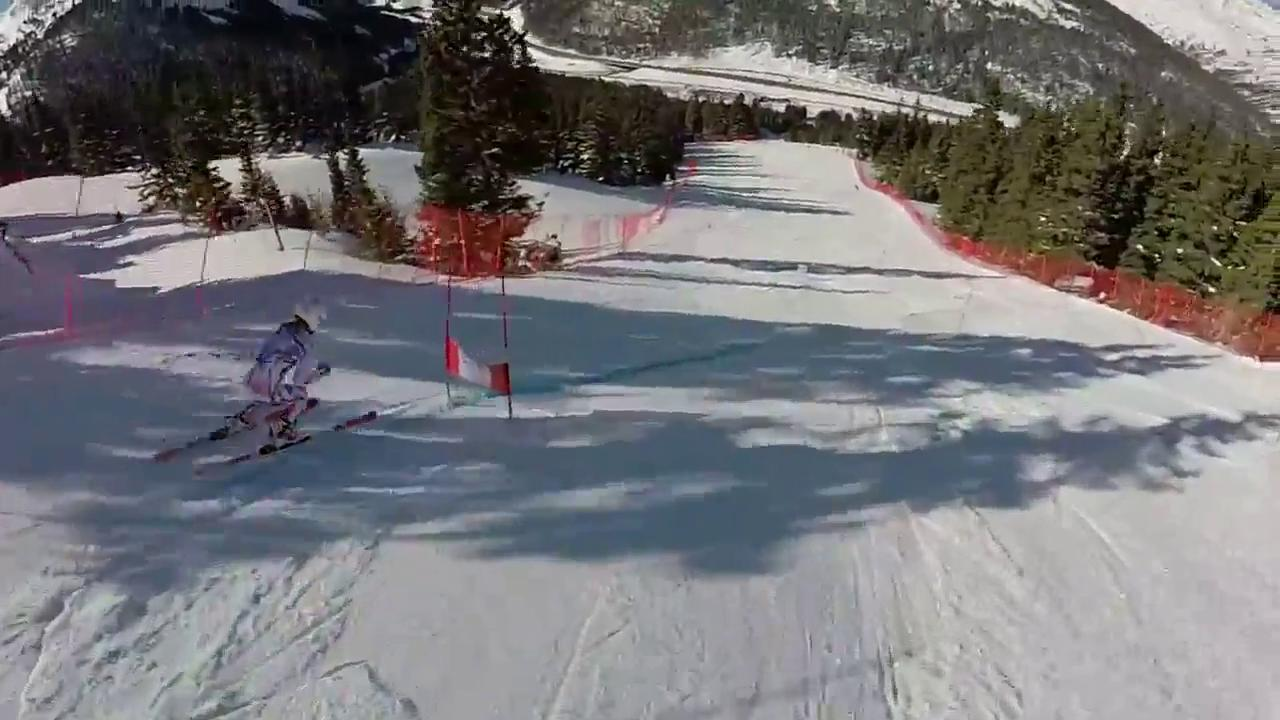gate: (498, 276, 511, 418), (445, 276, 452, 402)
